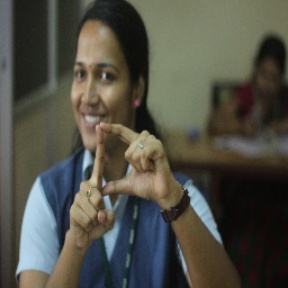D: (83, 116, 161, 214)
